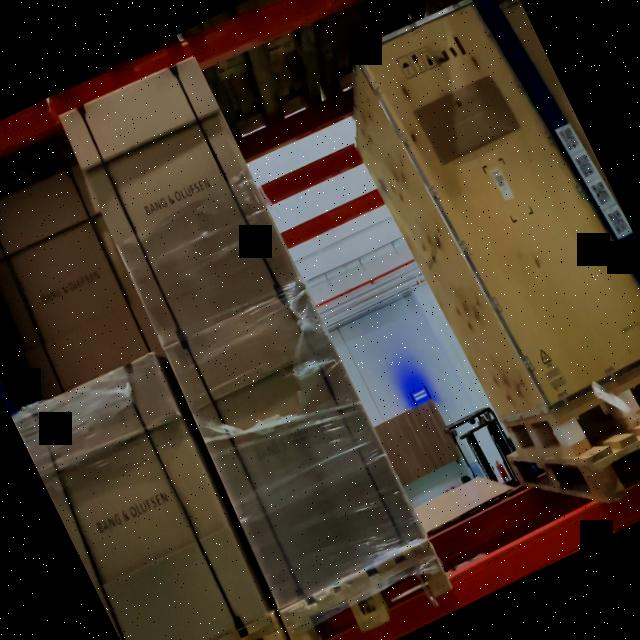box: (373, 0, 640, 396), (171, 294, 419, 594), (61, 58, 300, 342)
